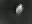person: (19, 3, 25, 15), (15, 6, 21, 17)
